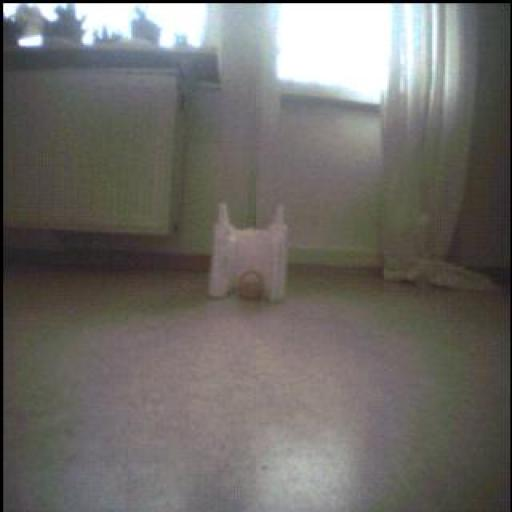Basket: (235, 271, 268, 304)
